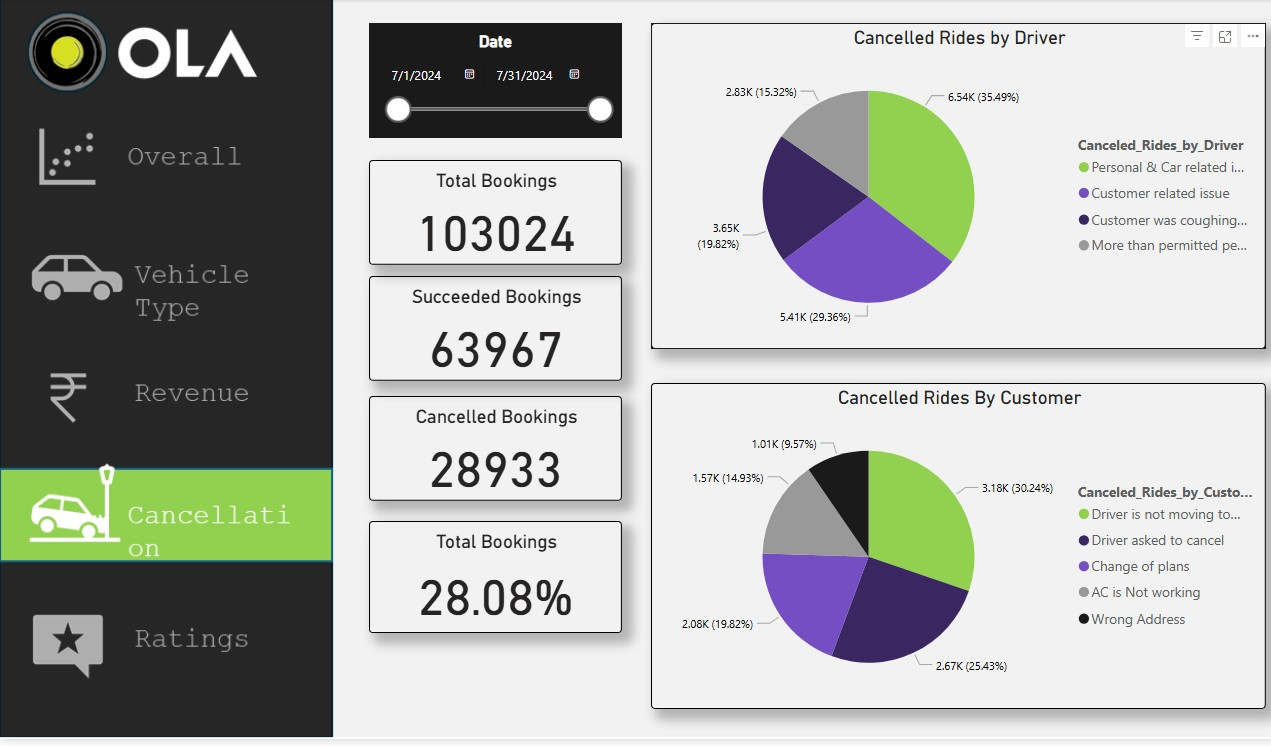

The dashboard page shown, as its layout file describes it:
{"tool":"powerbi","page":{"name":"CANCELLATION","canvas":[1280,720],"ordinal":3},"visuals":[{"type":"actionButton","box":[0,230,322.7,91.8],"z":0},{"type":"actionButton","box":[0.9,340.4,322.7,91.6],"z":1000},{"type":"actionButton","box":[0.9,580.4,322.7,97.8],"z":2000},{"type":"actionButton","box":[0,107.6,322.7,97.8],"z":3000},{"type":"pieChart","title":"Cancelled Rides by Driver","fields":{"Category":["Bookings-100000-Rows - July.Canceled_Rides_by_Driver"],"Y":["CountNonNull(Bookings-100000-Rows - July.Canceled_Rides_by_Driver)"]},"box":[633.2,23.3,598.2,317.1],"z":4000},{"type":"pieChart","title":"Cancelled Rides By Customer","fields":{"Category":["Bookings-100000-Rows - July.Canceled_Rides_by_Customer"],"Y":["CountNonNull(Bookings-100000-Rows - July.Canceled_Rides_by_Customer)"]},"box":[633.2,373.5,598.2,317.1],"z":5000},{"type":"slicer","title":"Date","fields":{"Values":["Bookings-100000-Rows - July.Date"]},"box":[358.9,23.3,246.1,110.9],"z":6000},{"type":"card","title":"Total Bookings","fields":{"Values":["CountNonNull(Bookings-100000-Rows - July.Booking_ID)"]},"box":[358.9,156.6,246.1,102.1],"z":7000},{"type":"card","title":"Succeeded Bookings","fields":{"Values":["CountNonNull(Bookings-100000-Rows - July.Booking_ID)"]},"box":[358.9,269.4,246.1,102.1],"z":8000},{"type":"card","title":"Cancelled Bookings","fields":{"Values":["CountNonNull(Bookings-100000-Rows - July.Booking_ID)"]},"box":[358.9,386.1,246.1,102.1],"z":9000},{"type":"card","title":"Total Bookings","fields":{"Values":["Booking.CanceledBookingPercentage"]},"box":[358.9,507.7,246.1,108.9],"z":10000}]}

Visuals, with their boxes on the page's 1280x720 design canvas (x1, y1, x2, y2). These are canvas units, not pixel positions in the 1271x746 screenshot, which may show the page scaled, cropped or inside an application window:
actionButton: rect(0, 230, 323, 322)
actionButton: rect(1, 340, 324, 432)
actionButton: rect(1, 580, 324, 678)
actionButton: rect(0, 108, 323, 205)
"Cancelled Rides by Driver" pieChart: rect(633, 23, 1231, 340)
"Cancelled Rides By Customer" pieChart: rect(633, 374, 1231, 691)
"Date" slicer: rect(359, 23, 605, 134)
"Total Bookings" card: rect(359, 157, 605, 259)
"Succeeded Bookings" card: rect(359, 269, 605, 372)
"Cancelled Bookings" card: rect(359, 386, 605, 488)
"Total Bookings" card: rect(359, 508, 605, 617)
